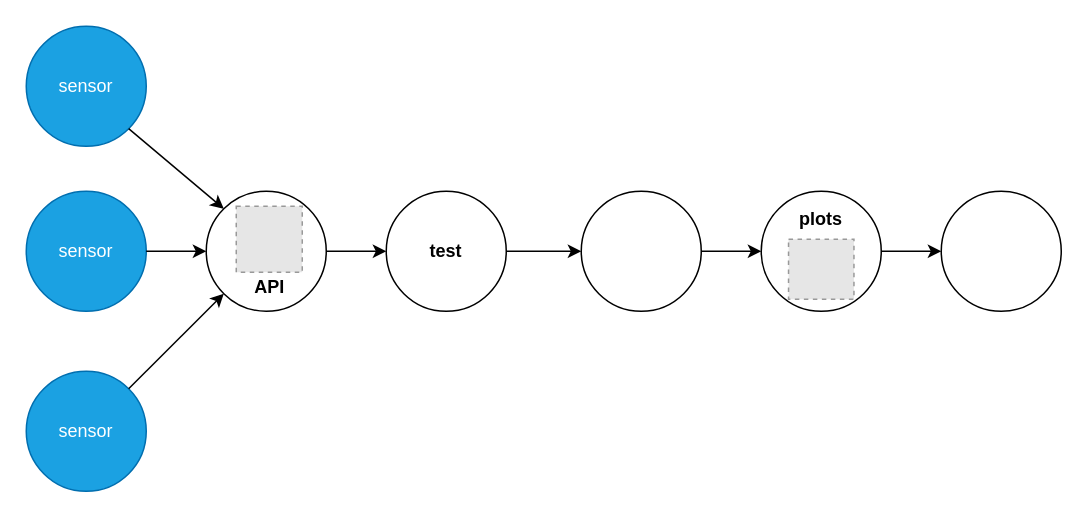
Image size: 1088x518. Some labels were removed from this diagram. Grey dashed boxes stand in for pictures. The shapes that lost their labels are listed below. From the top down, each one's centre as x and y in pixels, then its label:
[640,250]: data
[1000,250]: report .html .pdf
